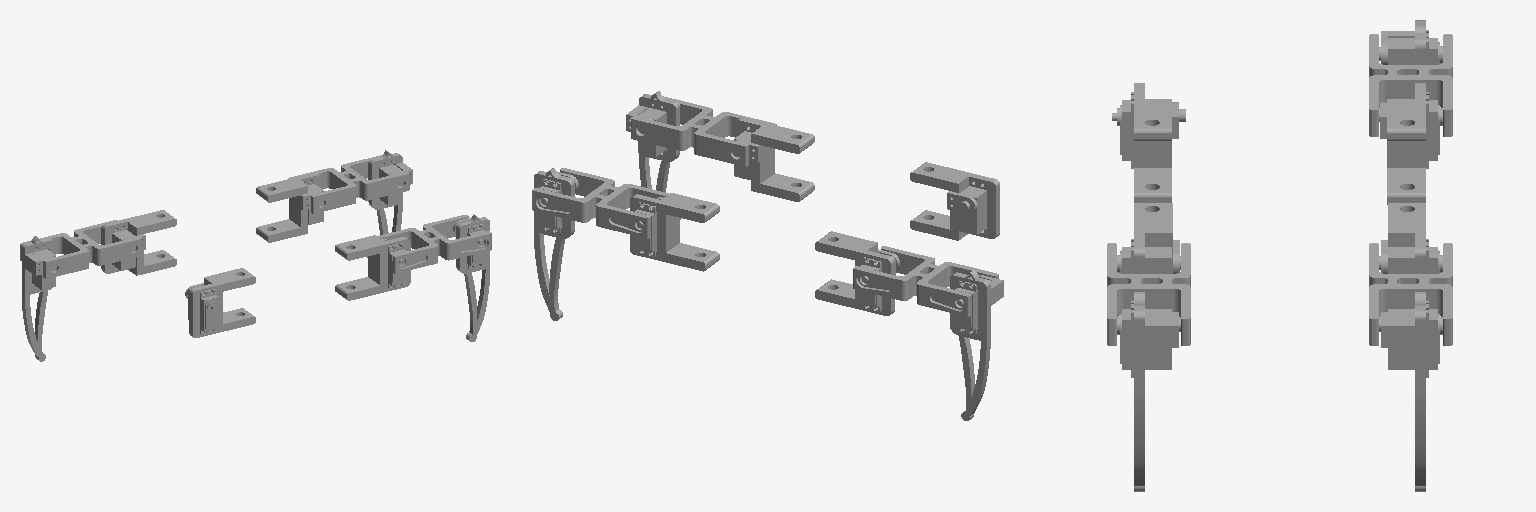
robot.urdf — finalv6:
<?xml version="1.0" ?>
<!-- =================================================================================== -->
<!-- |    This document was autogenerated by xacro from finalv6.xacro                  | -->
<!-- |    EDITING THIS FILE BY HAND IS NOT RECOMMENDED                                 | -->
<!-- =================================================================================== -->
<robot name="finalv6">
  <material name="silver">
    <color rgba="0.700 0.700 0.700 1.000"/>
  </material>
  <transmission name="Revolute 1_tran">
    <type>transmission_interface/SimpleTransmission</type>
    <joint name="Revolute 1">
      <hardwareInterface>hardware_interface/EffortJointInterface</hardwareInterface>
    </joint>
    <actuator name="Revolute 1_actr">
      <hardwareInterface>hardware_interface/EffortJointInterface</hardwareInterface>
      <mechanicalReduction>1</mechanicalReduction>
    </actuator>
  </transmission>
  <transmission name="Revolute 2_tran">
    <type>transmission_interface/SimpleTransmission</type>
    <joint name="Revolute 2">
      <hardwareInterface>hardware_interface/EffortJointInterface</hardwareInterface>
    </joint>
    <actuator name="Revolute 2_actr">
      <hardwareInterface>hardware_interface/EffortJointInterface</hardwareInterface>
      <mechanicalReduction>1</mechanicalReduction>
    </actuator>
  </transmission>
  <transmission name="Revolute 3_tran">
    <type>transmission_interface/SimpleTransmission</type>
    <joint name="Revolute 3">
      <hardwareInterface>hardware_interface/EffortJointInterface</hardwareInterface>
    </joint>
    <actuator name="Revolute 3_actr">
      <hardwareInterface>hardware_interface/EffortJointInterface</hardwareInterface>
      <mechanicalReduction>1</mechanicalReduction>
    </actuator>
  </transmission>
  <transmission name="Revolute 4_tran">
    <type>transmission_interface/SimpleTransmission</type>
    <joint name="Revolute 4">
      <hardwareInterface>hardware_interface/EffortJointInterface</hardwareInterface>
    </joint>
    <actuator name="Revolute 4_actr">
      <hardwareInterface>hardware_interface/EffortJointInterface</hardwareInterface>
      <mechanicalReduction>1</mechanicalReduction>
    </actuator>
  </transmission>
  <transmission name="Revolute 6_tran">
    <type>transmission_interface/SimpleTransmission</type>
    <joint name="Revolute 6">
      <hardwareInterface>hardware_interface/EffortJointInterface</hardwareInterface>
    </joint>
    <actuator name="Revolute 6_actr">
      <hardwareInterface>hardware_interface/EffortJointInterface</hardwareInterface>
      <mechanicalReduction>1</mechanicalReduction>
    </actuator>
  </transmission>
  <transmission name="Revolute 7_tran">
    <type>transmission_interface/SimpleTransmission</type>
    <joint name="Revolute 7">
      <hardwareInterface>hardware_interface/EffortJointInterface</hardwareInterface>
    </joint>
    <actuator name="Revolute 7_actr">
      <hardwareInterface>hardware_interface/EffortJointInterface</hardwareInterface>
      <mechanicalReduction>1</mechanicalReduction>
    </actuator>
  </transmission>
  <transmission name="Revolute 8_tran">
    <type>transmission_interface/SimpleTransmission</type>
    <joint name="Revolute 8">
      <hardwareInterface>hardware_interface/EffortJointInterface</hardwareInterface>
    </joint>
    <actuator name="Revolute 8_actr">
      <hardwareInterface>hardware_interface/EffortJointInterface</hardwareInterface>
      <mechanicalReduction>1</mechanicalReduction>
    </actuator>
  </transmission>
  <transmission name="Revolute 10_tran">
    <type>transmission_interface/SimpleTransmission</type>
    <joint name="Revolute 10">
      <hardwareInterface>hardware_interface/EffortJointInterface</hardwareInterface>
    </joint>
    <actuator name="Revolute 10_actr">
      <hardwareInterface>hardware_interface/EffortJointInterface</hardwareInterface>
      <mechanicalReduction>1</mechanicalReduction>
    </actuator>
  </transmission>
  <transmission name="Revolute 11_tran">
    <type>transmission_interface/SimpleTransmission</type>
    <joint name="Revolute 11">
      <hardwareInterface>hardware_interface/EffortJointInterface</hardwareInterface>
    </joint>
    <actuator name="Revolute 11_actr">
      <hardwareInterface>hardware_interface/EffortJointInterface</hardwareInterface>
      <mechanicalReduction>1</mechanicalReduction>
    </actuator>
  </transmission>
  <transmission name="Revolute 13_tran">
    <type>transmission_interface/SimpleTransmission</type>
    <joint name="Revolute 13">
      <hardwareInterface>hardware_interface/EffortJointInterface</hardwareInterface>
    </joint>
    <actuator name="Revolute 13_actr">
      <hardwareInterface>hardware_interface/EffortJointInterface</hardwareInterface>
      <mechanicalReduction>1</mechanicalReduction>
    </actuator>
  </transmission>
  <transmission name="Revolute 14_tran">
    <type>transmission_interface/SimpleTransmission</type>
    <joint name="Revolute 14">
      <hardwareInterface>hardware_interface/EffortJointInterface</hardwareInterface>
    </joint>
    <actuator name="Revolute 14_actr">
      <hardwareInterface>hardware_interface/EffortJointInterface</hardwareInterface>
      <mechanicalReduction>1</mechanicalReduction>
    </actuator>
  </transmission>
  <transmission name="Revolute 15_tran">
    <type>transmission_interface/SimpleTransmission</type>
    <joint name="Revolute 15">
      <hardwareInterface>hardware_interface/EffortJointInterface</hardwareInterface>
    </joint>
    <actuator name="Revolute 15_actr">
      <hardwareInterface>hardware_interface/EffortJointInterface</hardwareInterface>
      <mechanicalReduction>1</mechanicalReduction>
    </actuator>
  </transmission>
  <gazebo>
    <plugin filename="libgazebo_ros_control.so" name="control"/>
  </gazebo>
  <gazebo reference="base_link">
    <material>Gazebo/Silver</material>
    <mu1>0.2</mu1>
    <mu2>0.2</mu2>
    <selfCollide>true</selfCollide>
    <gravity>true</gravity>
  </gazebo>
  <gazebo reference="coxa_1">
    <material>Gazebo/Silver</material>
    <mu1>0.2</mu1>
    <mu2>0.2</mu2>
    <selfCollide>true</selfCollide>
  </gazebo>
  <gazebo reference="coxa__1__1">
    <material>Gazebo/Silver</material>
    <mu1>0.2</mu1>
    <mu2>0.2</mu2>
    <selfCollide>true</selfCollide>
  </gazebo>
  <gazebo reference="coxar_1">
    <material>Gazebo/Silver</material>
    <mu1>0.2</mu1>
    <mu2>0.2</mu2>
    <selfCollide>true</selfCollide>
  </gazebo>
  <gazebo reference="coxar__1__1">
    <material>Gazebo/Silver</material>
    <mu1>0.2</mu1>
    <mu2>0.2</mu2>
    <selfCollide>true</selfCollide>
  </gazebo>
  <gazebo reference="femur_v2__1__1">
    <material>Gazebo/Silver</material>
    <mu1>0.2</mu1>
    <mu2>0.2</mu2>
    <selfCollide>true</selfCollide>
  </gazebo>
  <gazebo reference="femur_v2__2__1">
    <material>Gazebo/Silver</material>
    <mu1>0.2</mu1>
    <mu2>0.2</mu2>
    <selfCollide>true</selfCollide>
  </gazebo>
  <gazebo reference="femur_v2_1">
    <material>Gazebo/Silver</material>
    <mu1>0.2</mu1>
    <mu2>0.2</mu2>
    <selfCollide>true</selfCollide>
  </gazebo>
  <gazebo reference="femur_v2__3__1">
    <material>Gazebo/Silver</material>
    <mu1>0.2</mu1>
    <mu2>0.2</mu2>
    <selfCollide>true</selfCollide>
  </gazebo>
  <gazebo reference="tibia_1">
    <material>Gazebo/Silver</material>
    <mu1>0.2</mu1>
    <mu2>0.2</mu2>
    <selfCollide>true</selfCollide>
  </gazebo>
  <gazebo reference="tibial_1">
    <material>Gazebo/Silver</material>
    <mu1>0.2</mu1>
    <mu2>0.2</mu2>
    <selfCollide>true</selfCollide>
  </gazebo>
  <gazebo reference="tibial__1__1">
    <material>Gazebo/Silver</material>
    <mu1>0.2</mu1>
    <mu2>0.2</mu2>
    <selfCollide>true</selfCollide>
  </gazebo>
  <gazebo reference="tibia__1__1">
    <material>Gazebo/Silver</material>
    <mu1>0.2</mu1>
    <mu2>0.2</mu2>
    <selfCollide>true</selfCollide>
  </gazebo>
  <link name="base_link">
    <inertial>
      <origin rpy="0 0 0" xyz="3.192836753980188e-13 8.027709343293736e-18 0.004341927527721527"/>
      <mass value="2.7659771353147584"/>
      <inertia ixx="0.024081" ixy="-0.0" ixz="0.0" iyy="0.011423" iyz="-0.0" izz="0.035198"/>
    </inertial>
    <visual>
      <origin rpy="0 0 0" xyz="0 0 0"/>
      <geometry>
        <mesh filename="../meshes/base_link.stl" scale="0.001 0.001 0.001"/>
      </geometry>
      <material name="silver"/>
    </visual>
    <collision>
      <origin rpy="0 0 0" xyz="0 0 0"/>
      <geometry>
        <mesh filename="../meshes/base_link.stl" scale="0.001 0.001 0.001"/>
      </geometry>
    </collision>
  </link>
  <link name="coxa_1">
    <inertial>
      <origin rpy="0 0 0" xyz="-0.03870139686034854 -0.001898963024422995 0.021945274327602512"/>
      <mass value="0.6382038523098543"/>
      <inertia ixx="0.000293" ixy="-2.9e-05" ixz="-3e-06" iyy="0.000491" iyz="-5e-06" izz="0.000335"/>
    </inertial>
    <visual>
      <origin rpy="0 0 0" xyz="0.075 0.093751 0.01255"/>
      <geometry>
        <mesh filename="../meshes/coxa_1.stl" scale="0.001 0.001 0.001"/>
      </geometry>
      <material name="silver"/>
    </visual>
    <collision>
      <origin rpy="0 0 0" xyz="0.075 0.093751 0.01255"/>
      <geometry>
        <mesh filename="../meshes/coxa_1.stl" scale="0.001 0.001 0.001"/>
      </geometry>
    </collision>
  </link>
  <link name="coxa__1__1">
    <inertial>
      <origin rpy="0 0 0" xyz="0.0387013968603485 0.0018989630244230088 0.02194527432760248"/>
      <mass value="0.6382038523098543"/>
      <inertia ixx="0.000293" ixy="-2.9e-05" ixz="3e-06" iyy="0.000491" iyz="5e-06" izz="0.000335"/>
    </inertial>
    <visual>
      <origin rpy="0 0 0" xyz="-0.075 -0.093751 0.01255"/>
      <geometry>
        <mesh filename="../meshes/coxa__1__1.stl" scale="0.001 0.001 0.001"/>
      </geometry>
      <material name="silver"/>
    </visual>
    <collision>
      <origin rpy="0 0 0" xyz="-0.075 -0.093751 0.01255"/>
      <geometry>
        <mesh filename="../meshes/coxa__1__1.stl" scale="0.001 0.001 0.001"/>
      </geometry>
    </collision>
  </link>
  <link name="coxar_1">
    <inertial>
      <origin rpy="0 0 0" xyz="-0.038431903365987646 0.0015629127774585971 0.021989543548337688"/>
      <mass value="0.6483763580716547"/>
      <inertia ixx="0.000303" ixy="3.2e-05" ixz="-4e-06" iyy="0.000502" iyz="5e-06" izz="0.000345"/>
    </inertial>
    <visual>
      <origin rpy="0 0 0" xyz="0.075 -0.093751 0.01255"/>
      <geometry>
        <mesh filename="../meshes/coxar_1.stl" scale="0.001 0.001 0.001"/>
      </geometry>
      <material name="silver"/>
    </visual>
    <collision>
      <origin rpy="0 0 0" xyz="0.075 -0.093751 0.01255"/>
      <geometry>
        <mesh filename="../meshes/coxar_1.stl" scale="0.001 0.001 0.001"/>
      </geometry>
    </collision>
  </link>
  <link name="coxar__1__1">
    <inertial>
      <origin rpy="0 0 0" xyz="0.038431903365987646 -0.0015629127774586526 0.0219895435483375"/>
      <mass value="0.6483763580716547"/>
      <inertia ixx="0.000303" ixy="3.2e-05" ixz="4e-06" iyy="0.000502" iyz="-5e-06" izz="0.000345"/>
    </inertial>
    <visual>
      <origin rpy="0 0 0" xyz="-0.075 0.093751 0.01255"/>
      <geometry>
        <mesh filename="../meshes/coxar__1__1.stl" scale="0.001 0.001 0.001"/>
      </geometry>
      <material name="silver"/>
    </visual>
    <collision>
      <origin rpy="0 0 0" xyz="-0.075 0.093751 0.01255"/>
      <geometry>
        <mesh filename="../meshes/coxar__1__1.stl" scale="0.001 0.001 0.001"/>
      </geometry>
    </collision>
  </link>
  <link name="femur_v2__1__1">
    <inertial>
      <origin rpy="0 0 0" xyz="-0.05399983018345267 -0.02508537222791407 2.8368345270091133e-08"/>
      <mass value="0.40893186984462077"/>
      <inertia ixx="0.000226" ixy="-0.0" ixz="0.0" iyy="0.000392" iyz="-0.0" izz="0.000582"/>
    </inertial>
    <visual>
      <origin rpy="0 0 0" xyz="0.1275 -0.119701 -0.019699"/>
      <geometry>
        <mesh filename="../meshes/femur_v2__1__1.stl" scale="0.001 0.001 0.001"/>
      </geometry>
      <material name="silver"/>
    </visual>
    <collision>
      <origin rpy="0 0 0" xyz="0.1275 -0.119701 -0.019699"/>
      <geometry>
        <mesh filename="../meshes/femur_v2__1__1.stl" scale="0.001 0.001 0.001"/>
      </geometry>
    </collision>
  </link>
  <link name="femur_v2__2__1">
    <inertial>
      <origin rpy="0 0 0" xyz="0.054000168974631474 -0.02508537222791396 2.9530635676372485e-08"/>
      <mass value="0.40893186984462077"/>
      <inertia ixx="0.000226" ixy="-0.0" ixz="0.0" iyy="0.000392" iyz="-0.0" izz="0.000582"/>
    </inertial>
    <visual>
      <origin rpy="0 0 0" xyz="-0.1275 -0.119701 -0.019699"/>
      <geometry>
        <mesh filename="../meshes/femur_v2__2__1.stl" scale="0.001 0.001 0.001"/>
      </geometry>
      <material name="silver"/>
    </visual>
    <collision>
      <origin rpy="0 0 0" xyz="-0.1275 -0.119701 -0.019699"/>
      <geometry>
        <mesh filename="../meshes/femur_v2__2__1.stl" scale="0.001 0.001 0.001"/>
      </geometry>
    </collision>
  </link>
  <link name="femur_v2_1">
    <inertial>
      <origin rpy="0 0 0" xyz="-0.05400016897463153 0.025085372227913974 2.9530635700658614e-08"/>
      <mass value="0.40893186984462077"/>
      <inertia ixx="0.000226" ixy="-0.0" ixz="-0.0" iyy="0.000392" iyz="0.0" izz="0.000582"/>
    </inertial>
    <visual>
      <origin rpy="0 0 0" xyz="0.1275 0.119701 -0.019699"/>
      <geometry>
        <mesh filename="../meshes/femur_v2_1.stl" scale="0.001 0.001 0.001"/>
      </geometry>
      <material name="silver"/>
    </visual>
    <collision>
      <origin rpy="0 0 0" xyz="0.1275 0.119701 -0.019699"/>
      <geometry>
        <mesh filename="../meshes/femur_v2_1.stl" scale="0.001 0.001 0.001"/>
      </geometry>
    </collision>
  </link>
  <link name="femur_v2__3__1">
    <inertial>
      <origin rpy="0 0 0" xyz="0.05400016781979153 0.025085372227913807 -3.06929270332823e-08"/>
      <mass value="0.40893186984462077"/>
      <inertia ixx="0.000226" ixy="0.0" ixz="-0.0" iyy="0.000392" iyz="-0.0" izz="0.000582"/>
    </inertial>
    <visual>
      <origin rpy="0 0 0" xyz="-0.1275 0.119701 -0.019699"/>
      <geometry>
        <mesh filename="../meshes/femur_v2__3__1.stl" scale="0.001 0.001 0.001"/>
      </geometry>
      <material name="silver"/>
    </visual>
    <collision>
      <origin rpy="0 0 0" xyz="-0.1275 0.119701 -0.019699"/>
      <geometry>
        <mesh filename="../meshes/femur_v2__3__1.stl" scale="0.001 0.001 0.001"/>
      </geometry>
    </collision>
  </link>
  <link name="tibia_1">
    <inertial>
      <origin rpy="0 0 0" xyz="-0.0019242581355636834 0.02100536388870225 -0.021396411257260762"/>
      <mass value="0.47890735773770404"/>
      <inertia ixx="0.000547" ixy="5e-06" ixz="-9e-06" iyy="0.00054" iyz="-3.3e-05" izz="9.5e-05"/>
    </inertial>
    <visual>
      <origin rpy="0 0 0" xyz="0.2355 0.119701 -0.019699"/>
      <geometry>
        <mesh filename="../meshes/tibia_1.stl" scale="0.001 0.001 0.001"/>
      </geometry>
      <material name="silver"/>
    </visual>
    <collision>
      <origin rpy="0 0 0" xyz="0.2355 0.119701 -0.019699"/>
      <geometry>
        <mesh filename="../meshes/tibia_1.stl" scale="0.001 0.001 0.001"/>
      </geometry>
    </collision>
  </link>
  <link name="tibial_1">
    <inertial>
      <origin rpy="0 0 0" xyz="-0.0019431120654800904 -0.02101812414499303 -0.02136685167285612"/>
      <mass value="0.47954845091755616"/>
      <inertia ixx="0.000547" ixy="-5e-06" ixz="-9e-06" iyy="0.00054" iyz="3.3e-05" izz="9.5e-05"/>
    </inertial>
    <visual>
      <origin rpy="0 0 0" xyz="0.2355 -0.119701 -0.019699"/>
      <geometry>
        <mesh filename="../meshes/tibial_1.stl" scale="0.001 0.001 0.001"/>
      </geometry>
      <material name="silver"/>
    </visual>
    <collision>
      <origin rpy="0 0 0" xyz="0.2355 -0.119701 -0.019699"/>
      <geometry>
        <mesh filename="../meshes/tibial_1.stl" scale="0.001 0.001 0.001"/>
      </geometry>
    </collision>
  </link>
  <link name="tibial__1__1">
    <inertial>
      <origin rpy="0 0 0" xyz="0.0019431120654801737 0.021018124144992545 -0.02136685167285628"/>
      <mass value="0.47954845091755616"/>
      <inertia ixx="0.000547" ixy="-5e-06" ixz="9e-06" iyy="0.00054" iyz="-3.3e-05" izz="9.5e-05"/>
    </inertial>
    <visual>
      <origin rpy="0 0 0" xyz="-0.2355 0.119701 -0.019699"/>
      <geometry>
        <mesh filename="../meshes/tibial__1__1.stl" scale="0.001 0.001 0.001"/>
      </geometry>
      <material name="silver"/>
    </visual>
    <collision>
      <origin rpy="0 0 0" xyz="-0.2355 0.119701 -0.019699"/>
      <geometry>
        <mesh filename="../meshes/tibial__1__1.stl" scale="0.001 0.001 0.001"/>
      </geometry>
    </collision>
  </link>
  <link name="tibia__1__1">
    <inertial>
      <origin rpy="0 0 0" xyz="0.0019242581355645716 -0.021005363888701806 -0.021396411257260786"/>
      <mass value="0.47890735773770404"/>
      <inertia ixx="0.000547" ixy="5e-06" ixz="9e-06" iyy="0.00054" iyz="3.3e-05" izz="9.5e-05"/>
    </inertial>
    <visual>
      <origin rpy="0 0 0" xyz="-0.2355 -0.119701 -0.019699"/>
      <geometry>
        <mesh filename="../meshes/tibia__1__1.stl" scale="0.001 0.001 0.001"/>
      </geometry>
      <material name="silver"/>
    </visual>
    <collision>
      <origin rpy="0 0 0" xyz="-0.2355 -0.119701 -0.019699"/>
      <geometry>
        <mesh filename="../meshes/tibia__1__1.stl" scale="0.001 0.001 0.001"/>
      </geometry>
    </collision>
  </link>
  <joint name="Revolute 1" type="revolute">
    <origin rpy="0 0 0" xyz="-0.075 -0.093751 -0.01255"/>
    <parent link="base_link"/>
    <child link="coxa_1"/>
    <axis xyz="-0.0 0.0 -1.0"/>
    <limit effort="100" lower="-0.349066" upper="0.349066" velocity="100"/>
  </joint>
  <joint name="Revolute 2" type="revolute">
    <origin rpy="0 0 0" xyz="0.075 0.093751 -0.01255"/>
    <parent link="base_link"/>
    <child link="coxa__1__1"/>
    <axis xyz="0.0 -0.0 -1.0"/>
    <limit effort="100" lower="-0.349066" upper="0.349066" velocity="100"/>
  </joint>
  <joint name="Revolute 3" type="revolute">
    <origin rpy="0 0 0" xyz="-0.075 0.093751 -0.01255"/>
    <parent link="base_link"/>
    <child link="coxar_1"/>
    <axis xyz="0.0 -0.0 -1.0"/>
    <limit effort="100" lower="-0.349066" upper="0.349066" velocity="100"/>
  </joint>
  <joint name="Revolute 4" type="revolute">
    <origin rpy="0 0 0" xyz="0.075 -0.093751 -0.01255"/>
    <parent link="base_link"/>
    <child link="coxar__1__1"/>
    <axis xyz="0.0 0.0 -1.0"/>
    <limit effort="100" lower="-0.349066" upper="0.349066" velocity="100"/>
  </joint>
  <joint name="Revolute 6" type="revolute">
    <origin rpy="0 0 0" xyz="-0.0525 0.02595 0.032249"/>
    <parent link="coxar_1"/>
    <child link="femur_v2__1__1"/>
    <axis xyz="-0.0 1.0 -0.0"/>
    <limit effort="100" lower="-0.785398" upper="1.570796" velocity="100"/>
  </joint>
  <joint name="Revolute 7" type="revolute">
    <origin rpy="0 0 0" xyz="0.0525 0.02595 0.032249"/>
    <parent link="coxa__1__1"/>
    <child link="femur_v2__2__1"/>
    <axis xyz="-0.0 -1.0 0.0"/>
    <limit effort="100" lower="-0.785398" upper="1.570796" velocity="100"/>
  </joint>
  <joint name="Revolute 8" type="revolute">
    <origin rpy="0 0 0" xyz="-0.0525 -0.02595 0.032249"/>
    <parent link="coxa_1"/>
    <child link="femur_v2_1"/>
    <axis xyz="-0.0 1.0 0.0"/>
    <limit effort="100" lower="-0.785398" upper="1.570796" velocity="100"/>
  </joint>
  <joint name="Revolute 10" type="revolute">
    <origin rpy="0 0 0" xyz="0.0525 -0.02595 0.032249"/>
    <parent link="coxar__1__1"/>
    <child link="femur_v2__3__1"/>
    <axis xyz="-0.0 -1.0 -0.0"/>
    <limit effort="100" lower="-0.785398" upper="1.570796" velocity="100"/>
  </joint>
  <joint name="Revolute 11" type="revolute">
    <origin rpy="0 0 0" xyz="-0.108 0.0 0.0"/>
    <parent link="femur_v2_1"/>
    <child link="tibia_1"/>
    <axis xyz="0.0 1.0 0.0"/>
    <limit effort="100" lower="-0.785398" upper="1.570796" velocity="100"/>
  </joint>
  <joint name="Revolute 13" type="revolute">
    <origin rpy="0 0 0" xyz="-0.108 0.0 0.0"/>
    <parent link="femur_v2__1__1"/>
    <child link="tibial_1"/>
    <axis xyz="-0.0 1.0 -0.0"/>
    <limit effort="100" lower="-0.785398" upper="1.570796" velocity="100"/>
  </joint>
  <joint name="Revolute 14" type="revolute">
    <origin rpy="0 0 0" xyz="0.108 0.0 0.0"/>
    <parent link="femur_v2__3__1"/>
    <child link="tibial__1__1"/>
    <axis xyz="0.0 -1.0 -0.0"/>
    <limit effort="100" lower="-0.785398" upper="1.570796" velocity="100"/>
  </joint>
  <joint name="Revolute 15" type="revolute">
    <origin rpy="0 0 0" xyz="0.108 0.0 0.0"/>
    <parent link="femur_v2__2__1"/>
    <child link="tibia__1__1"/>
    <axis xyz="0.0 1.0 -0.0"/>
    <limit effort="100" lower="-0.785398" upper="1.570796" velocity="100"/>
  </joint>
</robot>

--- What the picture shows (computed from the rendered views, not written in the file) ---
3 views of the same robot in one strip: view 1: azimuth 30°, elevation 25°; view 2: azimuth 150°, elevation 25°; view 3: azimuth 270°, elevation 25° (orthographic).
Robot: finalv6 — 13 links, 12 joints (12 revolute); root link base_link; default pose: every joint at zero.
Links seen in each view (by area): view 1: coxar__1__1, coxa_1, femur_v2__3__1, femur_v2__1__1, femur_v2__2__1, coxa__1__1, coxar_1, tibial_1, tibial__1__1, tibia__1__1; view 2: coxa_1, femur_v2__2__1, femur_v2__1__1, coxa__1__1, femur_v2__3__1, coxar__1__1, tibial_1, coxar_1, tibia__1__1, tibial__1__1; view 3: coxa_1, coxar_1, tibial__1__1, tibia__1__1, femur_v2__2__1, femur_v2__3__1, femur_v2__1__1, coxar__1__1, coxa__1__1, tibial_1.
Link boxes in pixels (left/top/right/bottom): coxar__1__1: left=335, top=235, right=410, bottom=300; coxa_1: left=185, top=268, right=255, bottom=337; femur_v2__3__1: left=378, top=215, right=491, bottom=273; femur_v2__1__1: left=20, top=220, right=141, bottom=278; femur_v2__2__1: left=288, top=155, right=409, bottom=213; coxa__1__1: left=256, top=172, right=323, bottom=242; coxar_1: left=101, top=210, right=176, bottom=275; tibial_1: left=22, top=236, right=56, bottom=361; tibial__1__1: left=453, top=214, right=489, bottom=341; tibia__1__1: left=368, top=150, right=412, bottom=234; coxa_1: left=910, top=162, right=999, bottom=240; femur_v2__2__1: left=532, top=168, right=668, bottom=238; femur_v2__1__1: left=853, top=246, right=998, bottom=316; coxa__1__1: left=630, top=193, right=719, bottom=271; femur_v2__3__1: left=631, top=96, right=776, bottom=166; coxar__1__1: left=732, top=117, right=814, bottom=201; tibial_1: left=950, top=270, right=1003, bottom=420; coxar_1: left=815, top=231, right=899, bottom=315; tibia__1__1: left=534, top=168, right=578, bottom=320; tibial__1__1: left=626, top=91, right=679, bottom=192; coxa_1: left=1112, top=83, right=1185, bottom=202; coxar_1: left=1379, top=83, right=1442, bottom=204; tibial__1__1: left=1117, top=292, right=1180, bottom=491; tibia__1__1: left=1379, top=292, right=1442, bottom=491; femur_v2__2__1: left=1369, top=243, right=1452, bottom=345; femur_v2__3__1: left=1107, top=243, right=1190, bottom=345; femur_v2__1__1: left=1369, top=34, right=1452, bottom=136; coxar__1__1: left=1117, top=203, right=1180, bottom=273; coxa__1__1: left=1379, top=203, right=1442, bottom=273; tibial_1: left=1379, top=20, right=1442, bottom=64.
Size in the robot's own frame: 0.513 by 0.2534 by 0.1617 metres.
10 mesh visuals loaded from 13 distinct referenced files (10 binary STL); not drawn: 3 (reference not matched to a file when rendering).
